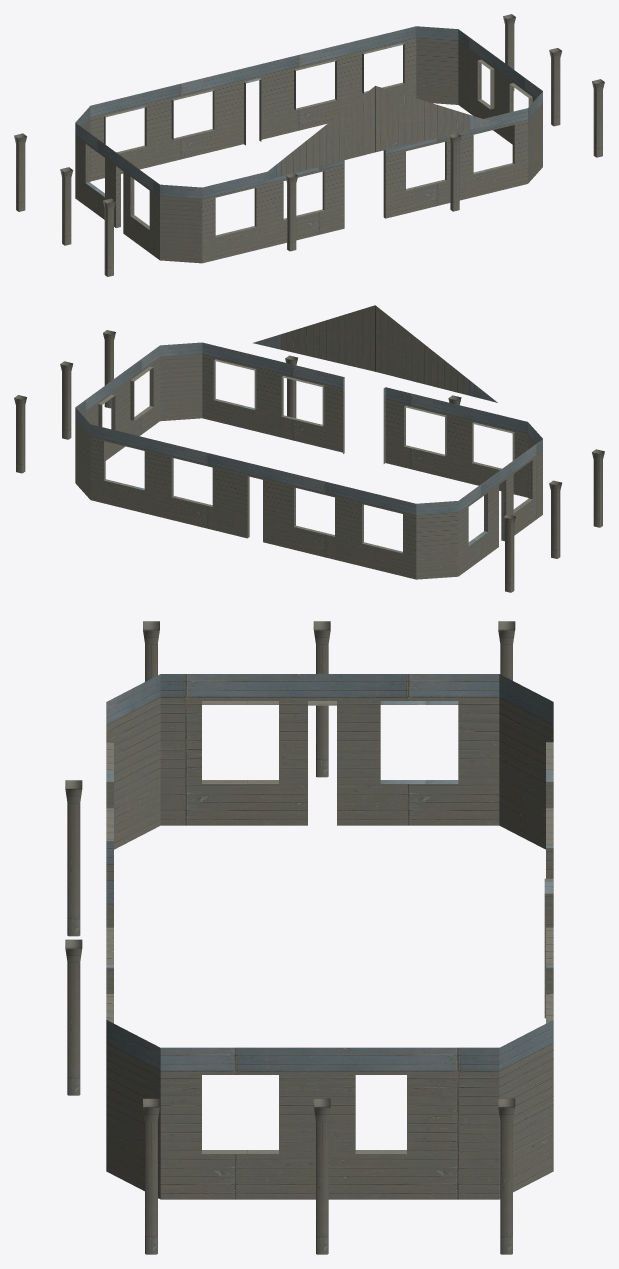
File: rural_woodenbuilding_4_rural_walltrim_1_0_lev2.glb
The picture shows the model from 3 angles, top to bottom: view 1: azimuth 30°, elevation 25°; view 2: azimuth 150°, elevation 25°; view 3: azimuth 270°, elevation 25°; orthographic projection. The views are drawn at different scales.
Parts seen in each view (by area): view 1: rural_woodenbuilding_4_rural_walltrim_1_0_lev2; view 2: rural_woodenbuilding_4_rural_walltrim_1_0_lev2; view 3: rural_woodenbuilding_4_rural_walltrim_1_0_lev2.
Part boxes in pixels (box(x1,y1,x2,y2)): rural_woodenbuilding_4_rural_walltrim_1_0_lev2: box(14, 14, 604, 276); rural_woodenbuilding_4_rural_walltrim_1_0_lev2: box(14, 305, 604, 592); rural_woodenbuilding_4_rural_walltrim_1_0_lev2: box(65, 621, 553, 1254).
Bounding box in the file's own units: 22.41 × 6.25 × 9.51.
Materials: 1 (1 with a texture image).
